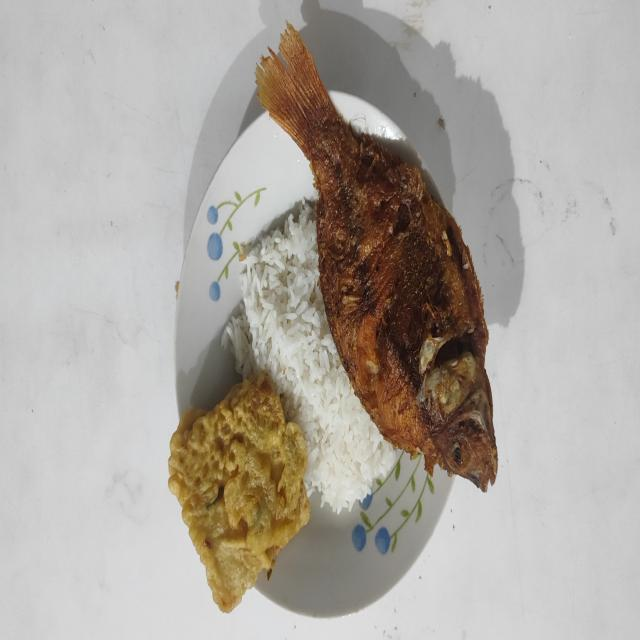ikan_mujair: (255, 22, 498, 492)
nasi_putih: (222, 200, 398, 514)
